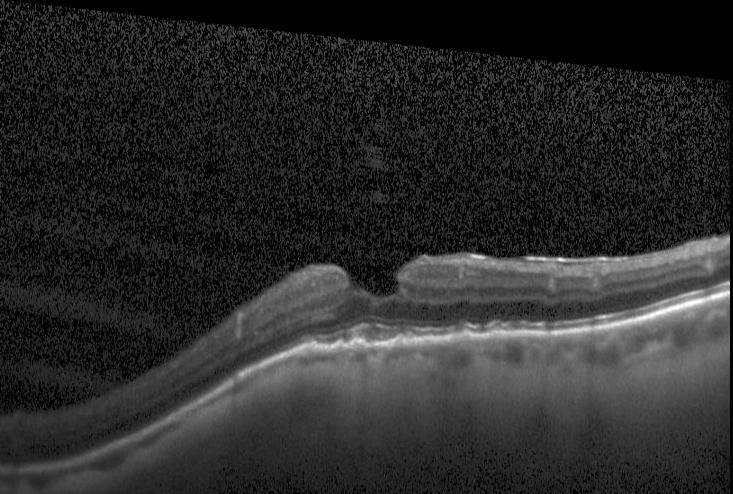lamellar_macular_rupture: (341, 259, 401, 288)
retinal_drusen: (351, 331, 366, 342), (334, 333, 346, 344), (490, 316, 502, 327), (393, 327, 404, 338), (304, 336, 316, 345), (462, 321, 470, 330), (449, 324, 459, 331)
